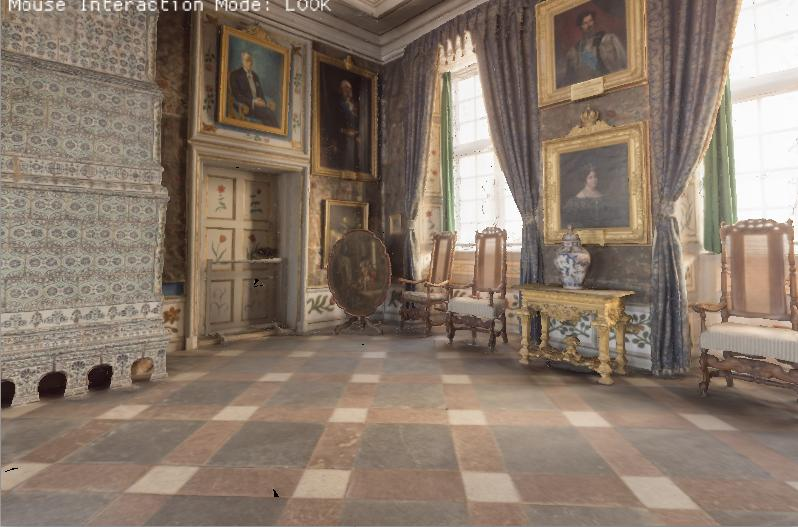chair: (700, 210, 798, 427), (444, 225, 515, 356), (399, 228, 456, 327)
door: (203, 172, 293, 333)
door-frame: (186, 142, 316, 349)
table: (500, 270, 647, 384)
